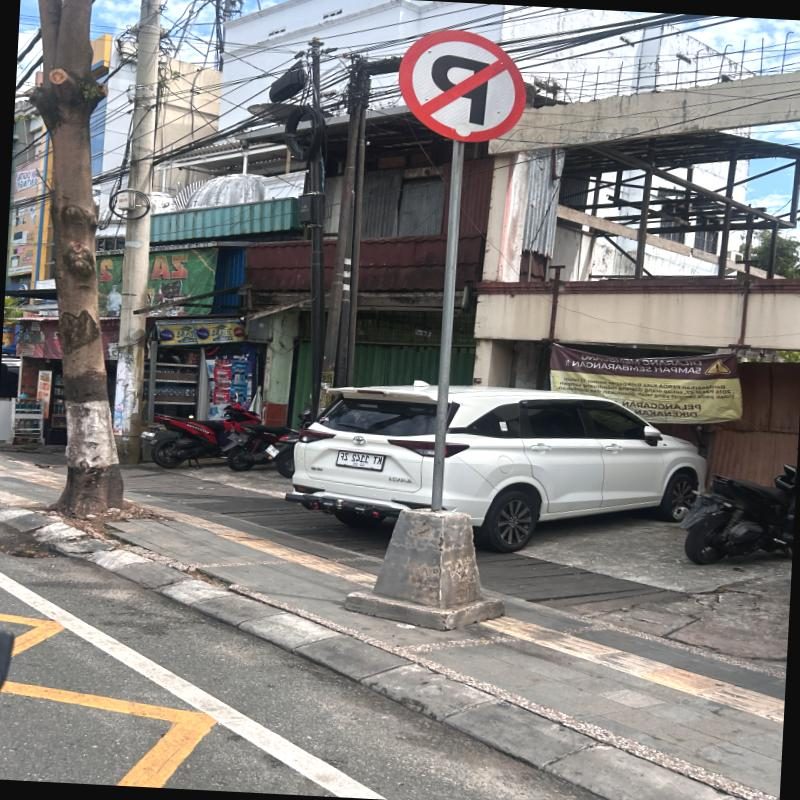license plate on a car: (334, 451, 386, 472)
